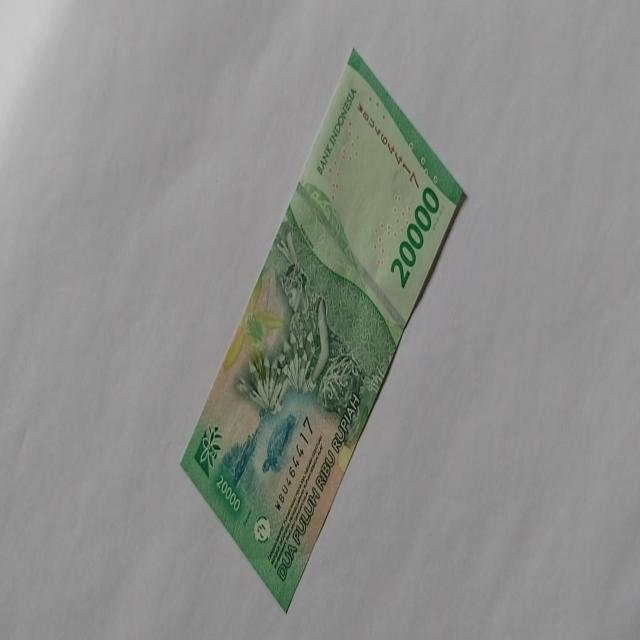dua puluh ribu rupiah: (178, 47, 468, 612)
